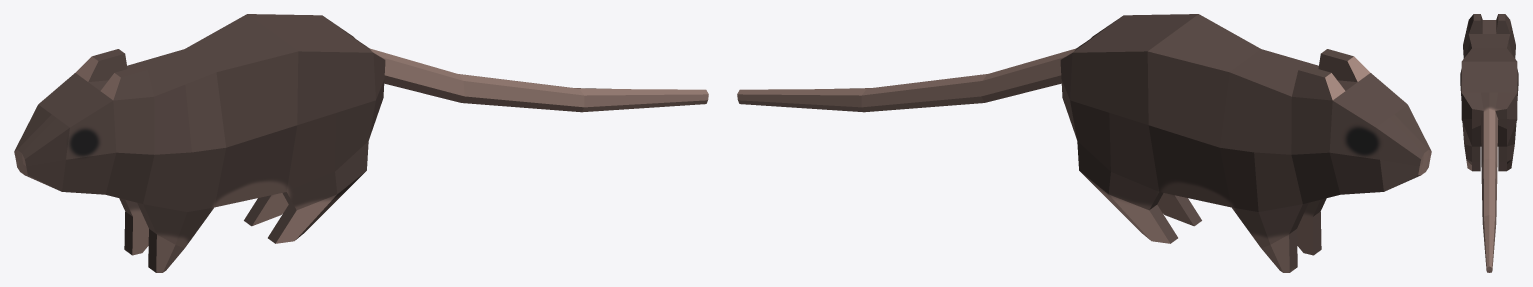
File: Rat.fbx
3 renders of one model, left to right at view 1: azimuth 30°, elevation 25°; view 2: azimuth 150°, elevation 25°; view 3: azimuth 270°, elevation 25°, orthographic. The views are drawn at different scales.
Parts seen in each view (by area): view 1: Plane.001; view 2: Plane.001; view 3: Plane.001.
Part boxes in pixels (left/top/right/bottom): Plane.001: left=14, top=14, right=708, bottom=272; Plane.001: left=737, top=14, right=1431, bottom=272; Plane.001: left=1460, top=14, right=1518, bottom=272.
Size of the model in its own units: 51.15 by 14.49 by 6.86.
